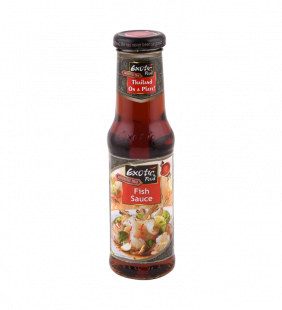EXOTIC FOOD: (101, 24, 181, 286)
